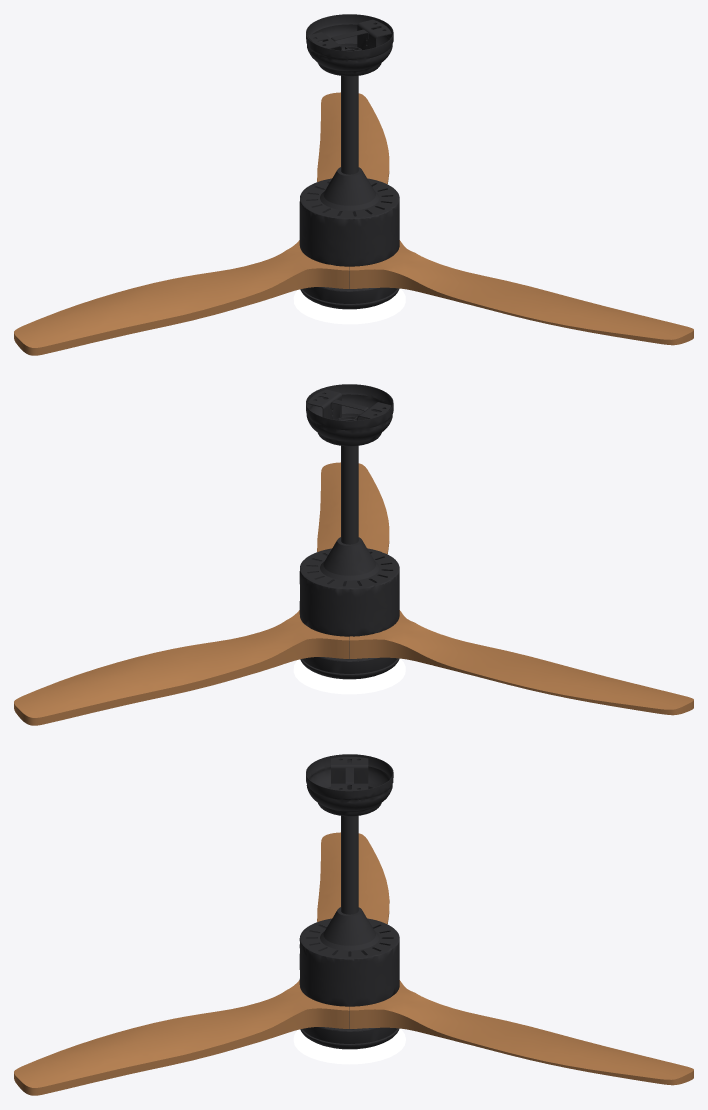
The model's file is fan-132L.glb.
3 renders of one model, top to bottom at view 1: azimuth 30°, elevation 25°; view 2: azimuth 150°, elevation 25°; view 3: azimuth 270°, elevation 25°, orthographic.
Visible parts, largest first — view 1: blades, motor, canopy, led_extra_disc, rod, lighthousing; view 2: blades, motor, canopy, led_extra_disc, rod, lighthousing; view 3: blades, motor, canopy, led_extra_disc, rod, lighthousing.
Part boxes in pixels (x1,y1,x2,y2): blades: [14, 92, 693, 355]; motor: [299, 178, 399, 266]; canopy: [306, 14, 393, 205]; led_extra_disc: [293, 288, 405, 324]; rod: [341, 49, 358, 174]; lighthousing: [300, 267, 399, 309]; blades: [14, 462, 693, 725]; motor: [299, 548, 399, 636]; canopy: [306, 384, 393, 575]; led_extra_disc: [293, 658, 405, 694]; rod: [341, 419, 358, 544]; lighthousing: [300, 636, 399, 679]; blades: [14, 832, 693, 1095]; motor: [299, 918, 399, 1006]; canopy: [306, 754, 393, 945]; led_extra_disc: [293, 1028, 405, 1064]; rod: [341, 815, 358, 914]; lighthousing: [300, 1007, 399, 1049].
Bounding box in the file's own units: 1.03 × 0.5057 × 1.16.
